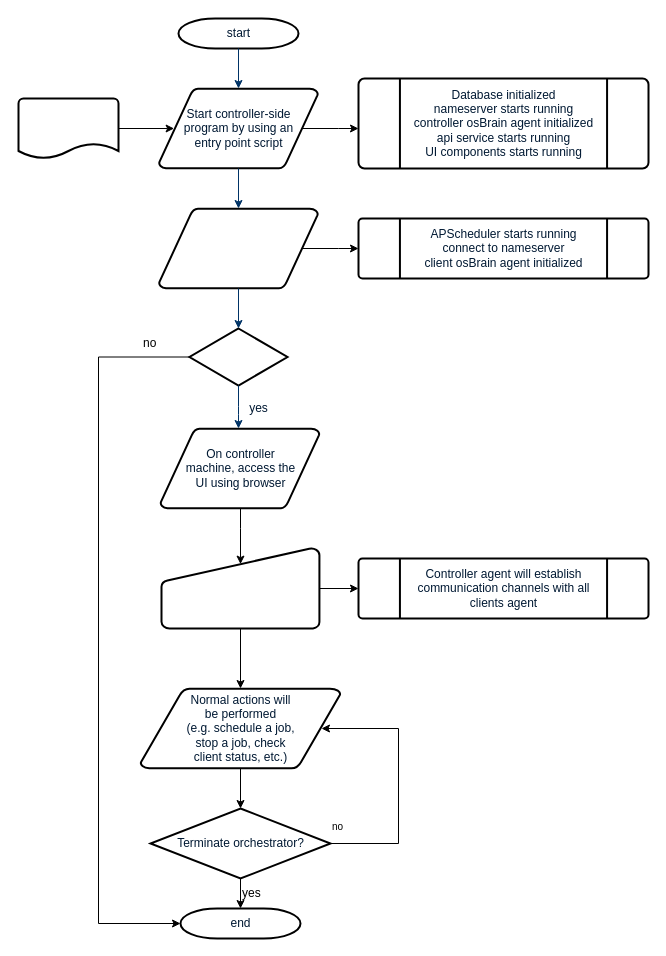
Some shapes in this 666 by 956 pixel diagram are drawn without their labels. The shapes that lost their labels are listed below. From the top down, each one's centre as x and y in pixels, then its label:
(x=68, y=128): High-level Scripts
(x=238, y=248): Start client-side program by using an entry point script on each of the clients
(x=238, y=356): No errors
(x=240, y=588): Click button "Connect to all clients"
